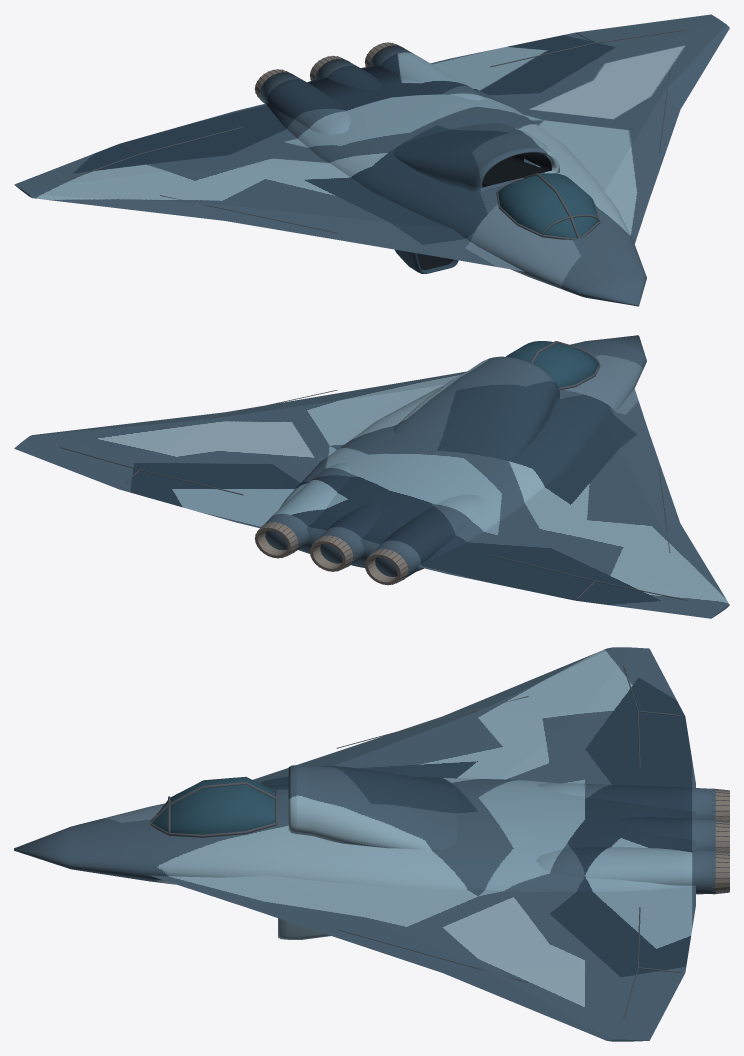
File: J36_concept.glb
The picture shows the model from 3 angles, top to bottom: view 1: azimuth 30°, elevation 25°; view 2: azimuth 150°, elevation 25°; view 3: azimuth 270°, elevation 25°; orthographic projection. The views are drawn at different scales.
Visible parts, largest first — view 1: Port cranked delta wing, 01 Blended broad fuselage, Starboard cranked delta wing, 03 Dorsal intake smoothly blended fairing, 02 Wide side-by-side canopy, Engine 1 shroud, Engine 3 shroud, 03 Dorsal intake recessed dark duct, Engine 2 shroud, 03 Dorsal intake rounded lip; view 2: Port cranked delta wing, Starboard cranked delta wing, 01 Blended broad fuselage, 03 Dorsal intake smoothly blended fairing, Engine 1 shroud, Engine 3 shroud, 02 Wide side-by-side canopy, Engine 2 shroud, Engine 2 exhaust, Engine 3 exhaust, Engine 1 exhaust; view 3: Starboard cranked delta wing, 01 Blended broad fuselage, Port cranked delta wing, 03 Dorsal intake smoothly blended fairing, Engine 3 shroud, 02 Wide side-by-side canopy, Engine 1 shroud, Engine 2 shroud, 03 Dorsal intake rounded lip.
Part boxes in pixels (bbox=[...]): Port cranked delta wing: bbox=[14, 103, 524, 271]; 01 Blended broad fuselage: bbox=[265, 65, 646, 306]; Starboard cranked delta wing: bbox=[430, 14, 729, 243]; 03 Dorsal intake smoothly blended fairing: bbox=[393, 123, 550, 191]; 02 Wide side-by-side canopy: bbox=[498, 173, 598, 238]; Engine 1 shroud: bbox=[260, 72, 350, 135]; Engine 3 shroud: bbox=[370, 45, 484, 100]; 03 Dorsal intake recessed dark duct: bbox=[482, 152, 551, 187]; Engine 2 shroud: bbox=[315, 59, 381, 89]; 03 Dorsal intake rounded lip: bbox=[472, 147, 559, 192]; Port cranked delta wing: bbox=[420, 388, 729, 618]; Starboard cranked delta wing: bbox=[14, 371, 465, 528]; 01 Blended broad fuselage: bbox=[279, 335, 646, 571]; 03 Dorsal intake smoothly blended fairing: bbox=[393, 358, 558, 458]; Engine 1 shroud: bbox=[373, 494, 483, 579]; Engine 3 shroud: bbox=[263, 462, 350, 552]; 02 Wide side-by-side canopy: bbox=[506, 341, 598, 387]; Engine 2 shroud: bbox=[318, 503, 380, 566]; Engine 2 exhaust: bbox=[310, 535, 353, 571]; Engine 3 exhaust: bbox=[255, 522, 298, 558]; Engine 1 exhaust: bbox=[365, 549, 408, 584]; Starboard cranked delta wing: bbox=[149, 875, 695, 1041]; 01 Blended broad fuselage: bbox=[14, 777, 695, 892]; Port cranked delta wing: bbox=[253, 647, 695, 787]; 03 Dorsal intake smoothly blended fairing: bbox=[297, 765, 458, 850]; Engine 3 shroud: bbox=[536, 847, 715, 894]; 02 Wide side-by-side canopy: bbox=[152, 776, 275, 834]; Engine 1 shroud: bbox=[537, 783, 715, 819]; Engine 2 shroud: bbox=[617, 817, 715, 850]; 03 Dorsal intake rounded lip: bbox=[288, 765, 297, 833].
Bounding box in the file's own units: 26 × 3.41 × 20.05.
Materials: 5 (1 with a texture image).
